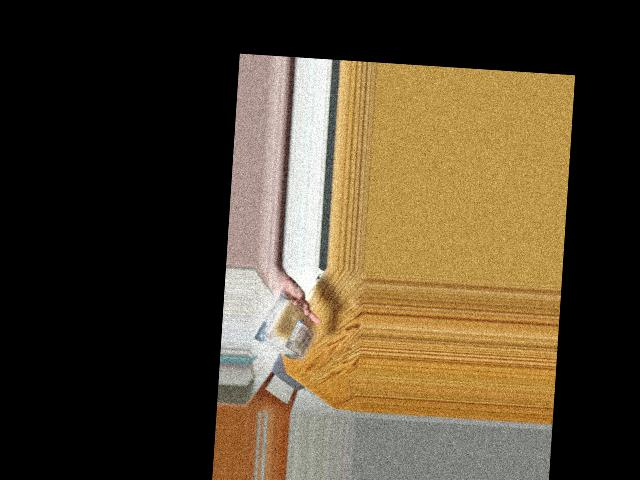cheese: (260, 294, 318, 365)
